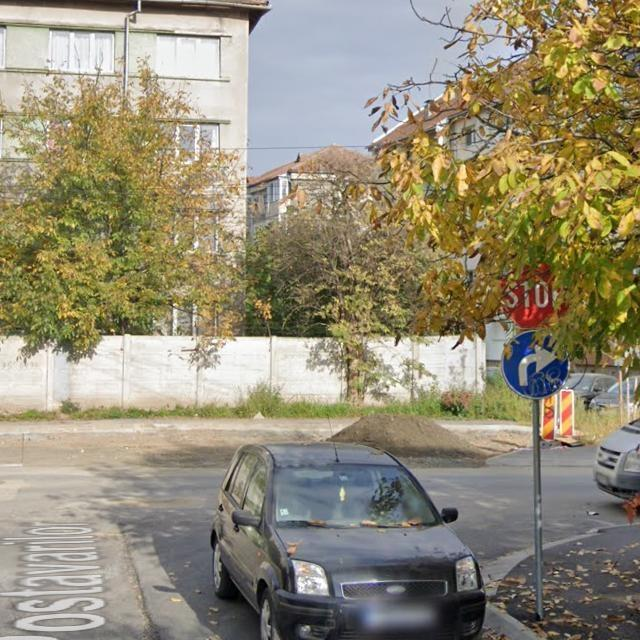prio_stop: (501, 263, 569, 329)
